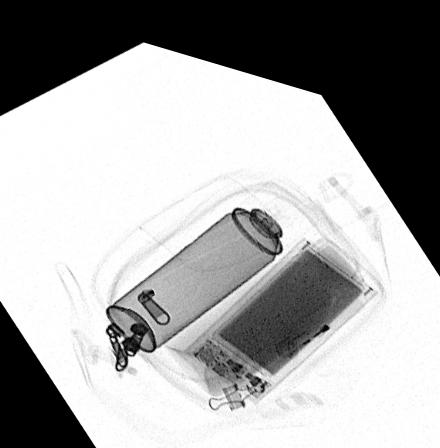Lighter: (272, 271, 363, 344)
Powerbank: (181, 217, 376, 390)
Sprayer: (104, 161, 318, 344)
